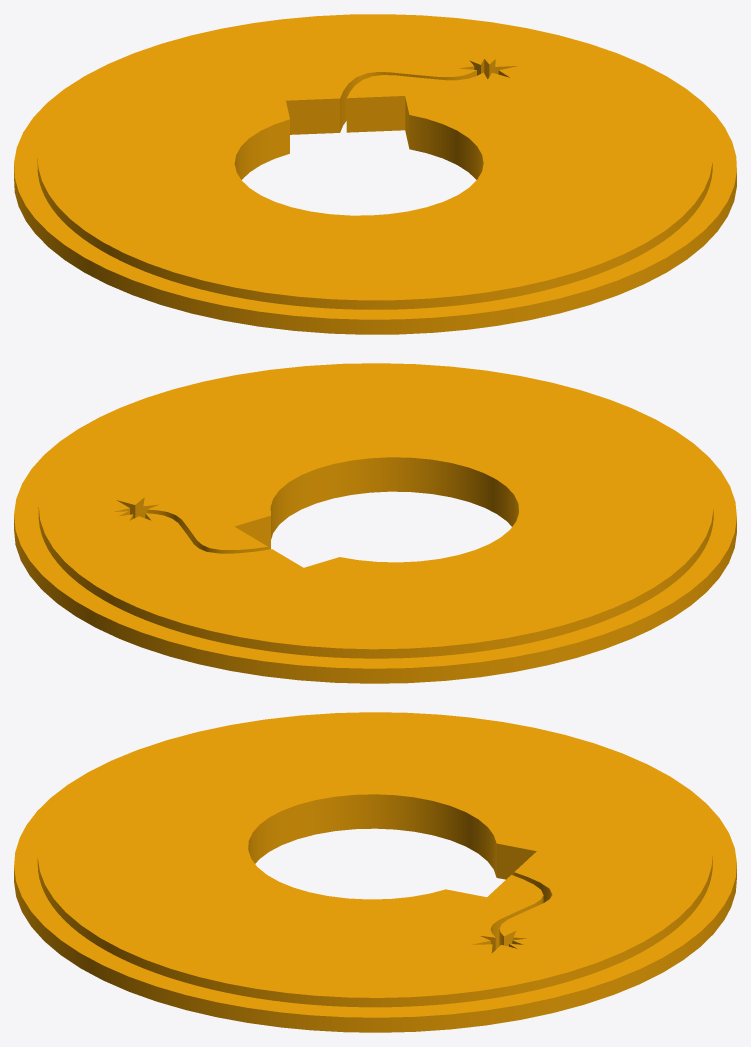
The model's file is bomb 1.fbx.
The picture shows the model from 3 angles, top to bottom: view 1: azimuth 30°, elevation 25°; view 2: azimuth 150°, elevation 25°; view 3: azimuth 270°, elevation 25°; orthographic projection.
Parts seen in each view (by area): view 1: 物件_1; view 2: 物件_1; view 3: 物件_1.
Boxes of the visible parts, left/top/right/bottom form: 物件_1: left=14, top=14, right=736, bottom=334; 物件_1: left=14, top=363, right=736, bottom=683; 物件_1: left=14, top=712, right=736, bottom=1032.
Bounding box in the file's own units: 53.39 × 53.39 × 2.8.
